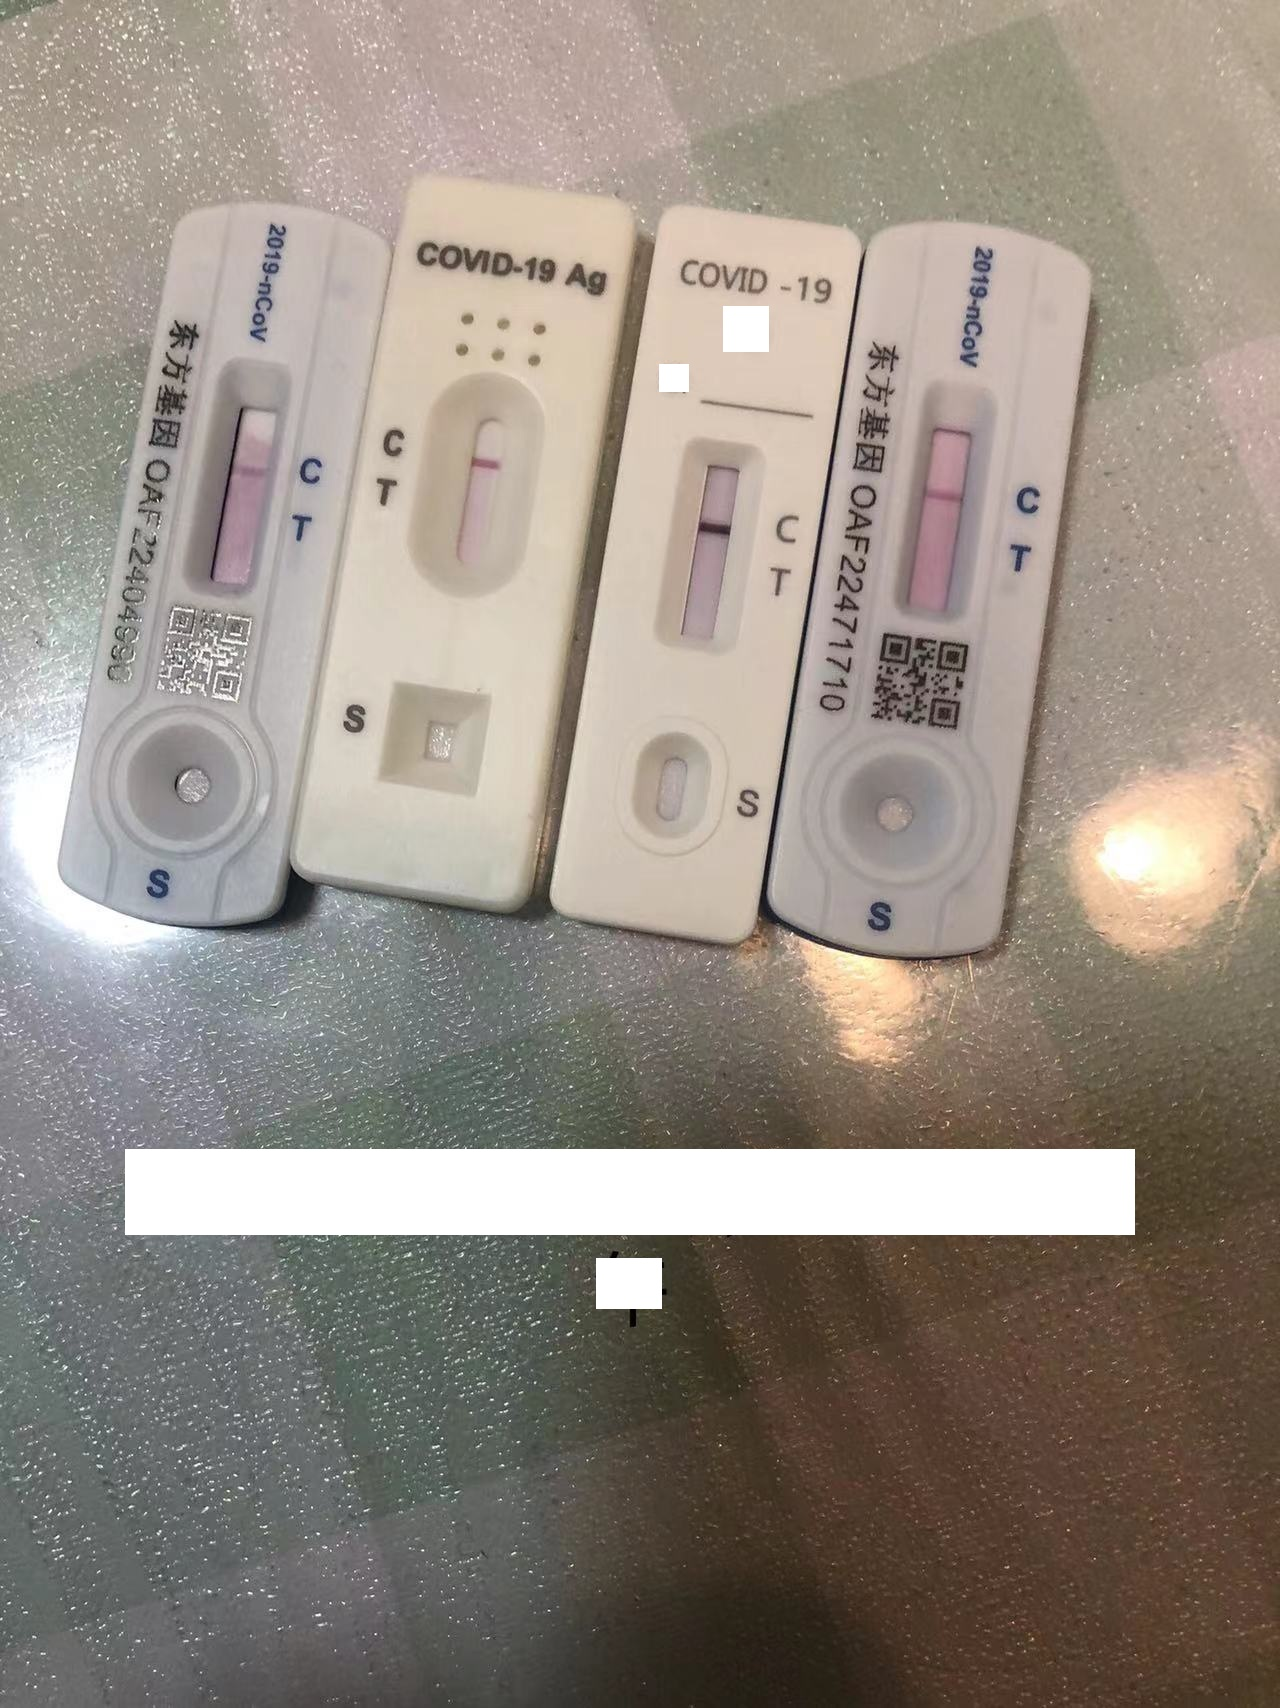negative: (890, 381, 996, 623), (190, 359, 293, 605), (417, 383, 536, 594), (662, 436, 762, 655)
